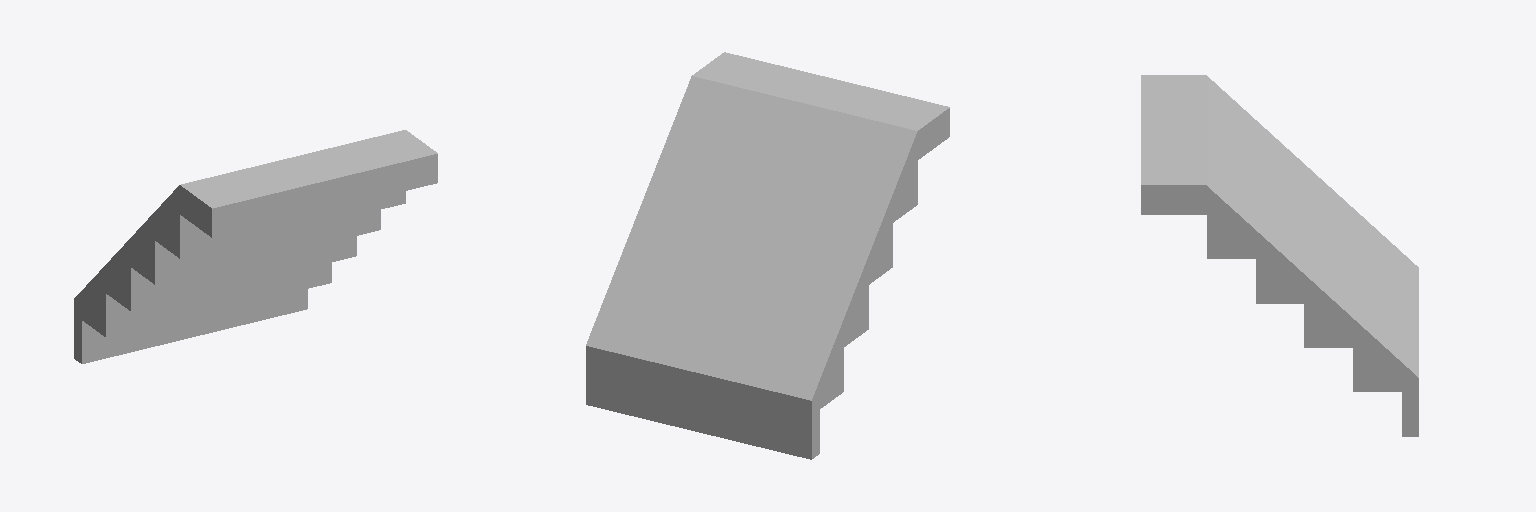
File: Obj_SurfaceType_Stairs_Liquid.obj
The picture shows the model from 3 angles: view 1: azimuth 30°, elevation 25°; view 2: azimuth 150°, elevation 25°; view 3: azimuth 270°, elevation 25°; orthographic projection.
Visible parts, largest first — view 1: cube; view 2: cube; view 3: cube.
Part boxes in pixels (bbox=[...]): cube: bbox=[74, 130, 437, 363]; cube: bbox=[586, 52, 949, 459]; cube: bbox=[1141, 75, 1418, 436].
Size of the model in its own units: 1 by 1.06 by 1.06.